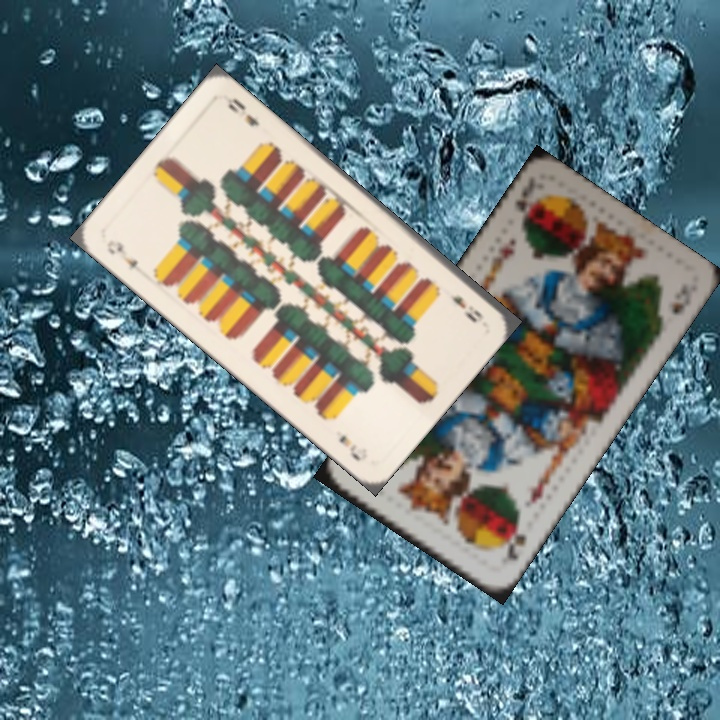E9: (102, 236, 141, 271), (447, 292, 486, 325)
SK: (497, 518, 530, 567), (511, 188, 535, 229)
